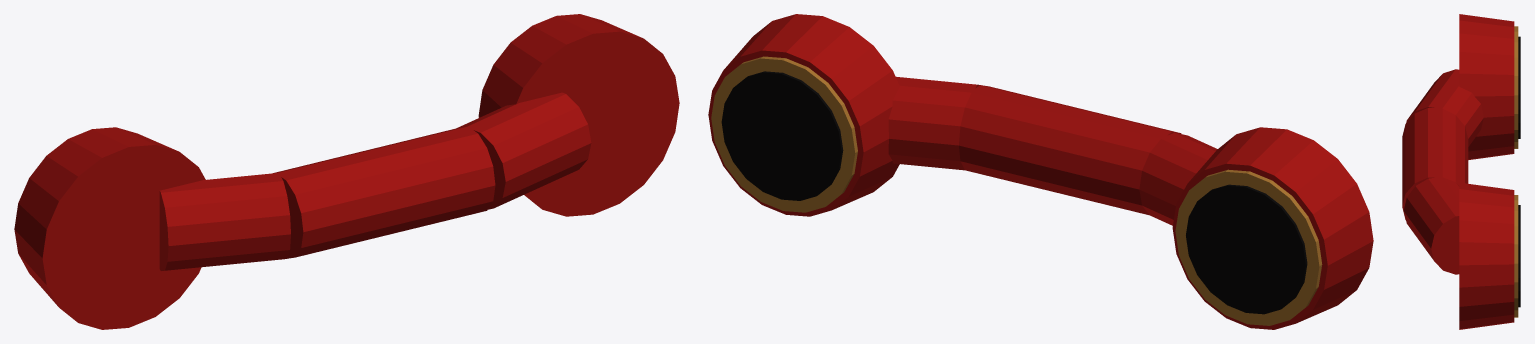
Rendered from SM_RotaryPhoneReceiver.obj.
3 renders of one model, left to right at view 1: azimuth 30°, elevation 25°; view 2: azimuth 150°, elevation 25°; view 3: azimuth 270°, elevation 25°, orthographic. The views are drawn at different scales.
Bounding box in the file's own units: 79.6 × 21.6 × 17.25.
